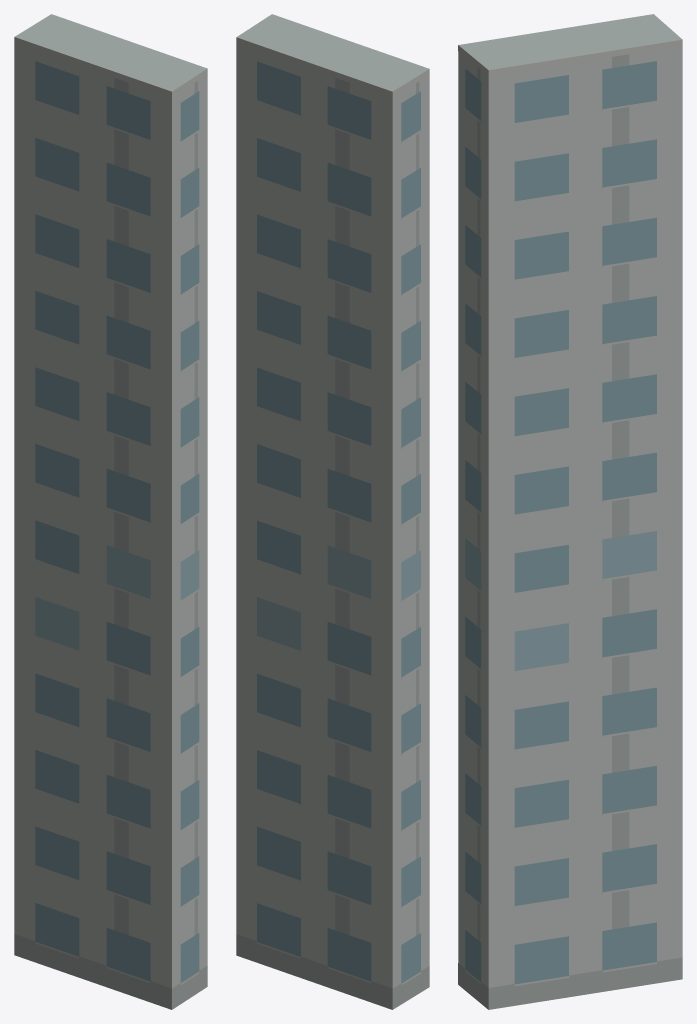
The model's file is survey-upis-32837396.glb.
The picture shows the model from 3 angles, left to right: view 1: azimuth 30°, elevation 25°; view 2: azimuth 210°, elevation 25°; view 3: azimuth 270°, elevation 25°; orthographic projection. The views are drawn at different scales.
Parts seen in each view (by area): view 1: survey-upis-32837396.tmp; view 2: survey-upis-32837396.tmp; view 3: survey-upis-32837396.tmp.
Boxes of the visible parts, bbox=[...] form: survey-upis-32837396.tmp: bbox=[14, 14, 207, 1009]; survey-upis-32837396.tmp: bbox=[236, 14, 429, 1009]; survey-upis-32837396.tmp: bbox=[458, 14, 682, 1009].
Bounding box in the file's own units: 4.71 × 36.6 × 7.93.
